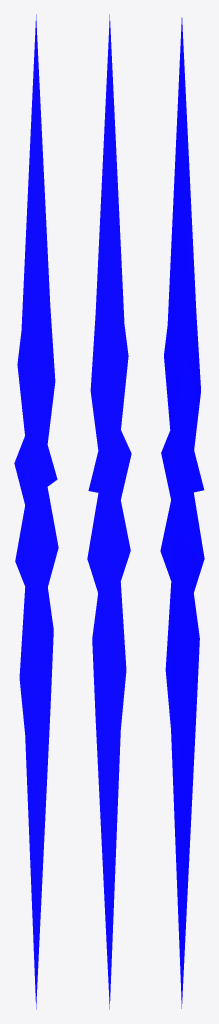
Rendered from rayotiempo.glb.
3 views of the same model, side by side, from view 1: azimuth 30°, elevation 25°; view 2: azimuth 210°, elevation 25°; view 3: azimuth 330°, elevation 25° (orthographic).
Parts seen in each view (by area): view 1: Plano; view 2: Plano; view 3: Plano.
Part boxes in pixels (x1,y1,x2,y2): Plano: (14,14,58,1009); Plano: (87,14,131,1009); Plano: (160,17,204,1008).
Size of the model in its own units: 0.23 by 4.98 by 0.00775.
Materials: 1 (1 with a texture image).
